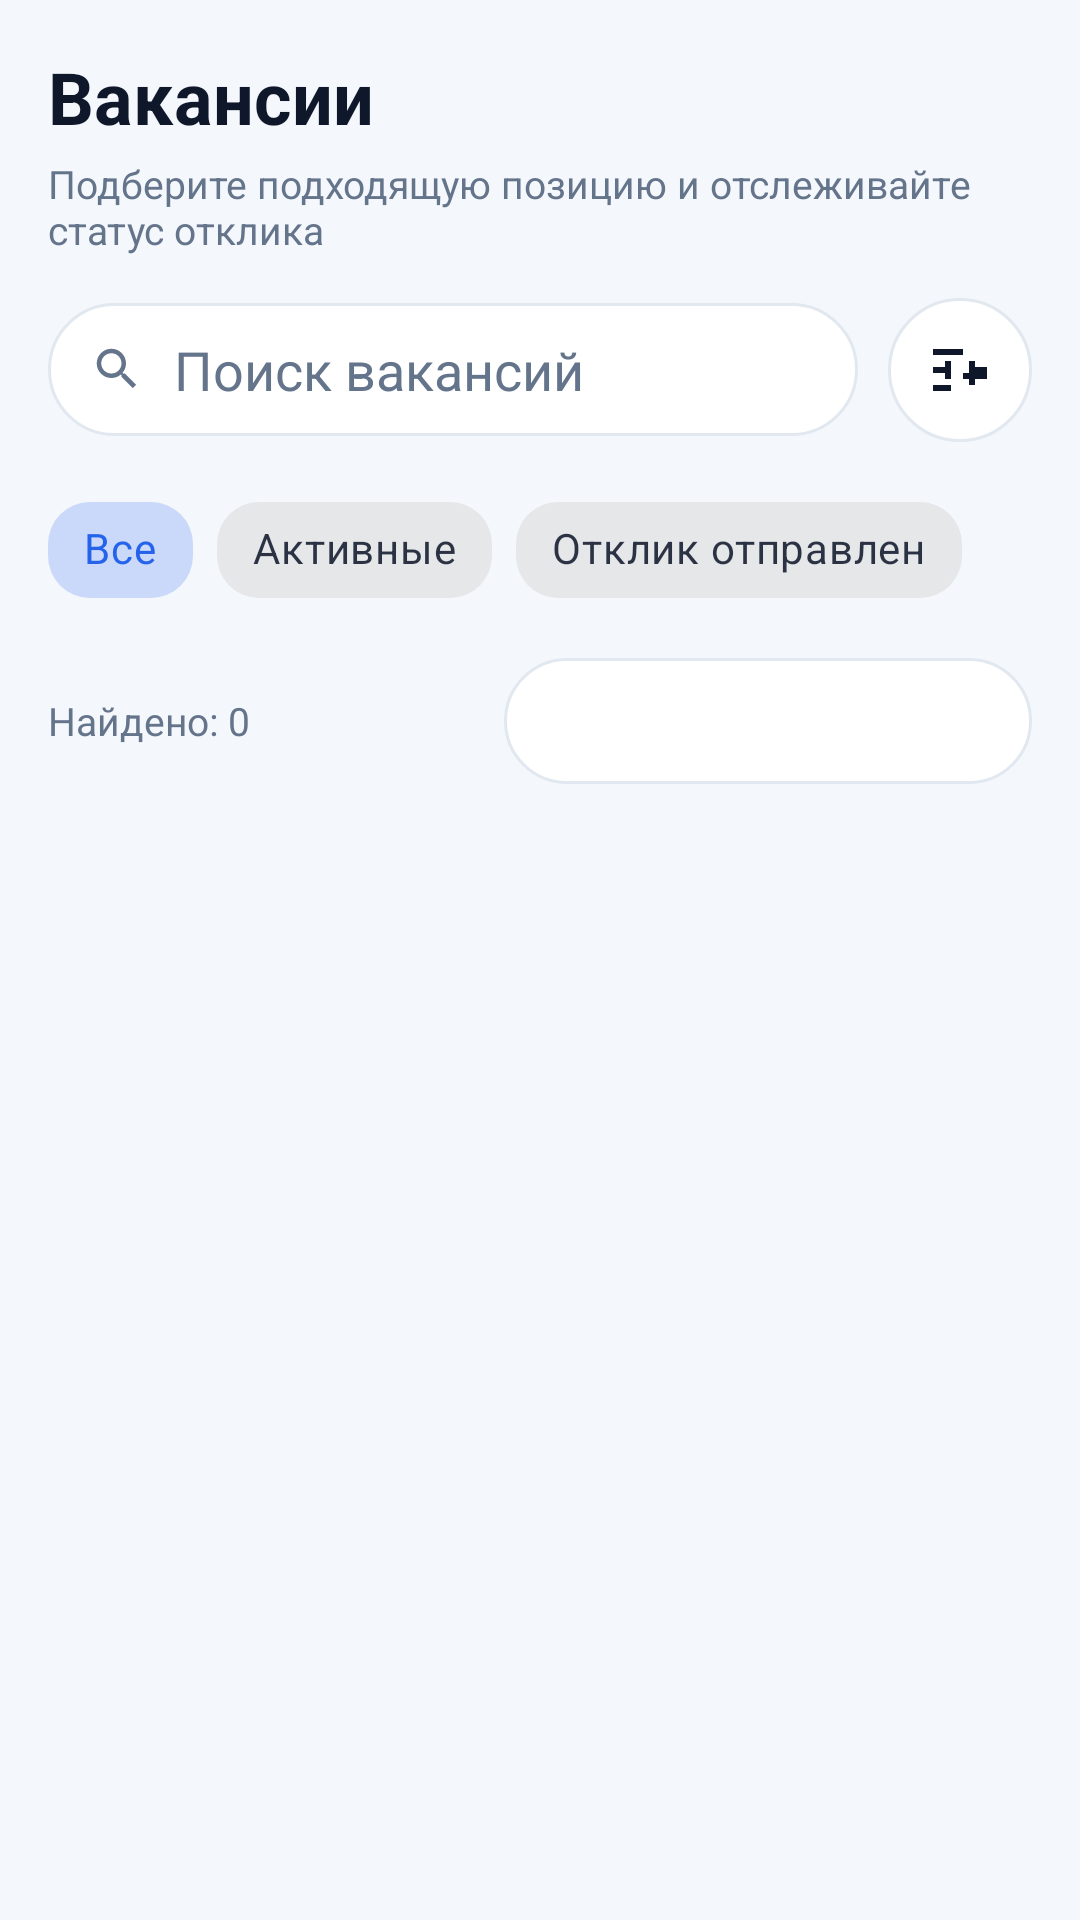

Icon click points for this 1080w x 1920h phone screenshot, format (x=x, y=y):
search: (x=116, y=368)
Фильтры: (x=960, y=370)
